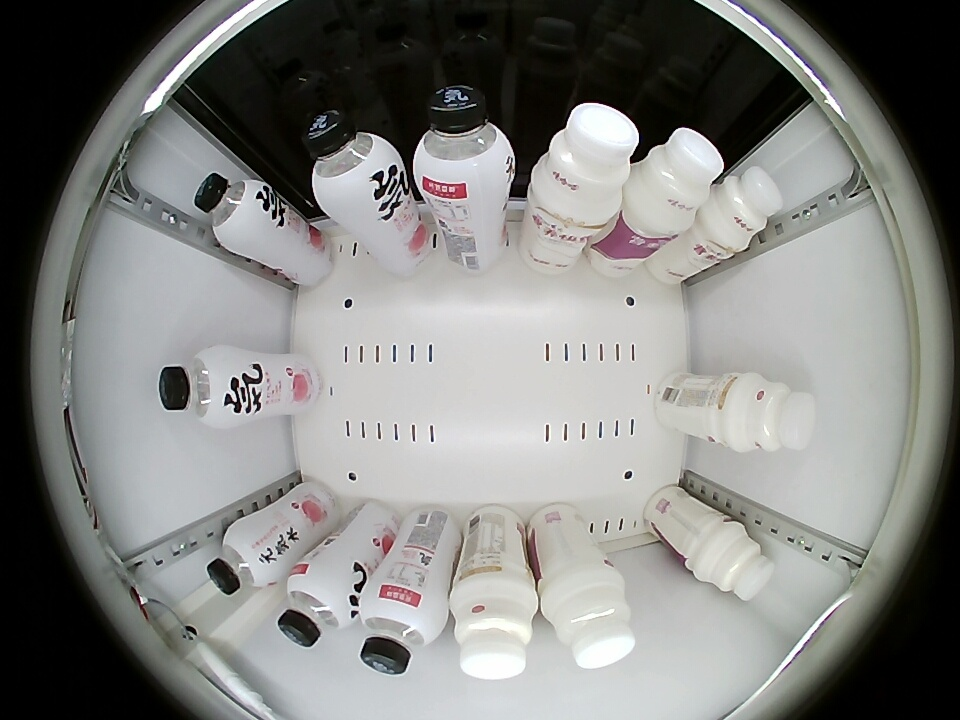yingyangkuaixian: (530, 103, 639, 224), (625, 127, 723, 233), (540, 568, 636, 669), (450, 576, 538, 679), (723, 372, 817, 454), (701, 165, 783, 252), (692, 522, 775, 601)
yuanqishui: (412, 85, 515, 201), (303, 109, 403, 216), (357, 580, 448, 674), (159, 344, 243, 427), (278, 562, 359, 648), (193, 173, 272, 251), (205, 522, 281, 596)
